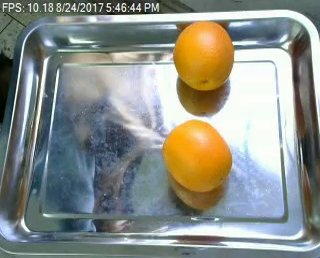Orange: (162, 119, 232, 192), (173, 21, 234, 91)
